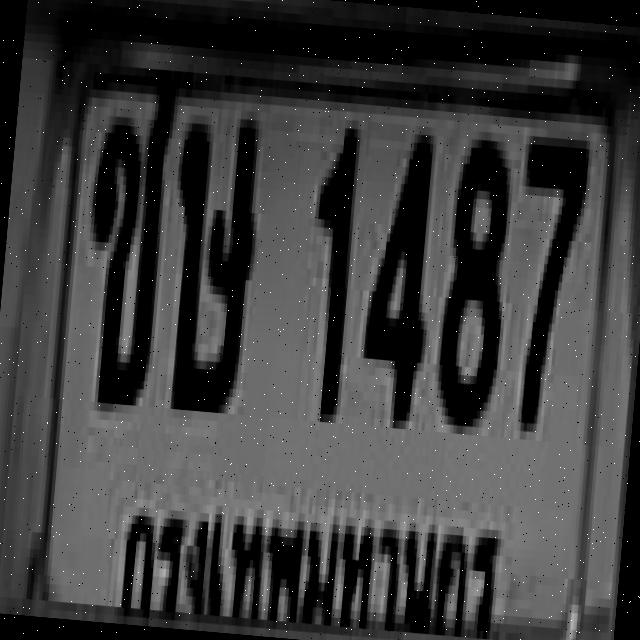1: (297, 118, 358, 414)
19ChorChang: (75, 81, 176, 406)
4: (354, 123, 438, 421)
48SorRueSi: (158, 105, 264, 414)
7: (501, 127, 587, 426)
8: (432, 129, 514, 419)
Bangkok: (108, 472, 514, 640)
